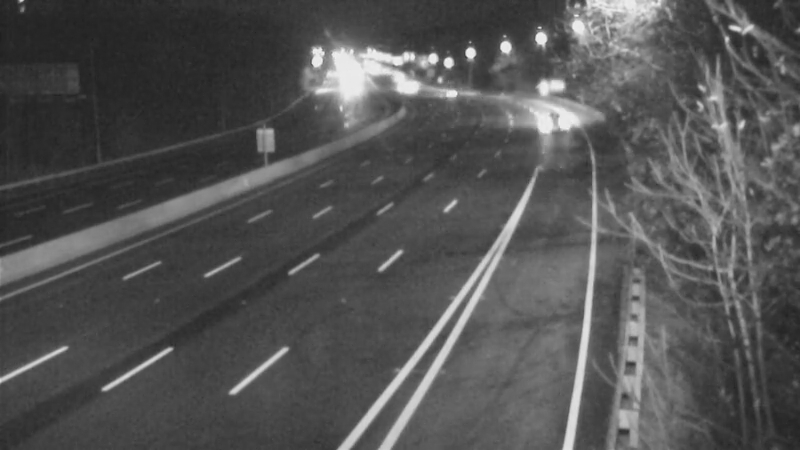vehicle: (419, 67, 469, 117), (523, 92, 573, 142)
